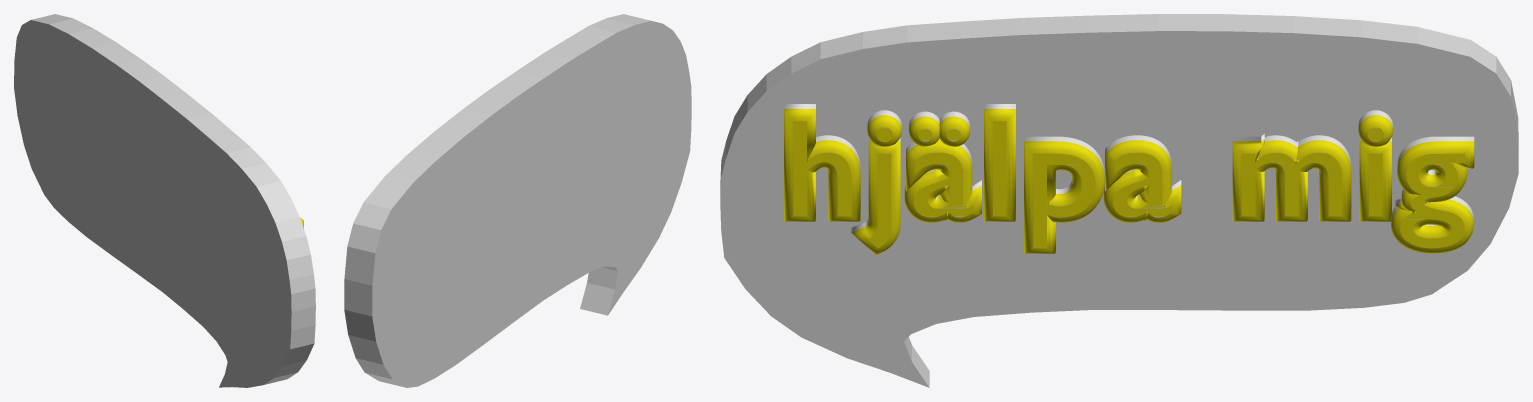
The model's file is Bubble.fbx.
3 renders of one model, left to right at view 1: azimuth 30°, elevation 25°; view 2: azimuth 150°, elevation 25°; view 3: azimuth 270°, elevation 25°, orthographic. The views are drawn at different scales.
Visible parts, largest first — view 1: Text; view 2: Text; view 3: Text.
Part boxes in pixels (x1,y1,x2,y2): Text: [14, 14, 315, 387]; Text: [344, 14, 691, 387]; Text: [720, 14, 1518, 387].
Bounding box in the file's own units: 23.66 × 152 × 309.
